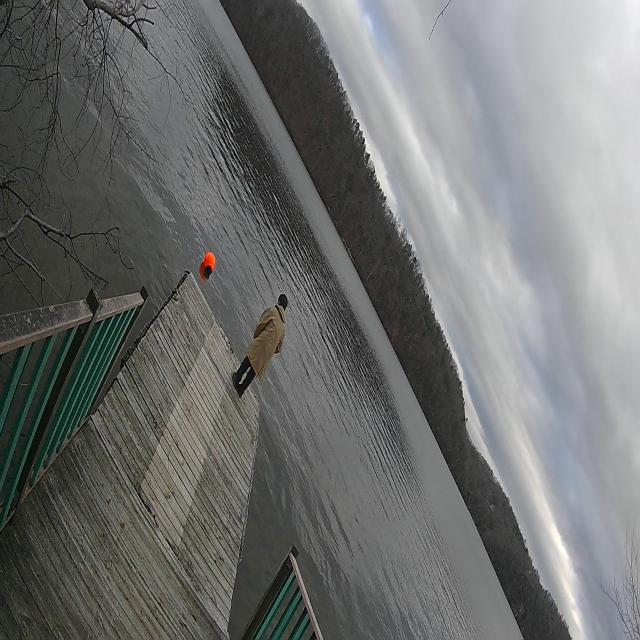Buoy: (202, 247, 217, 278)
